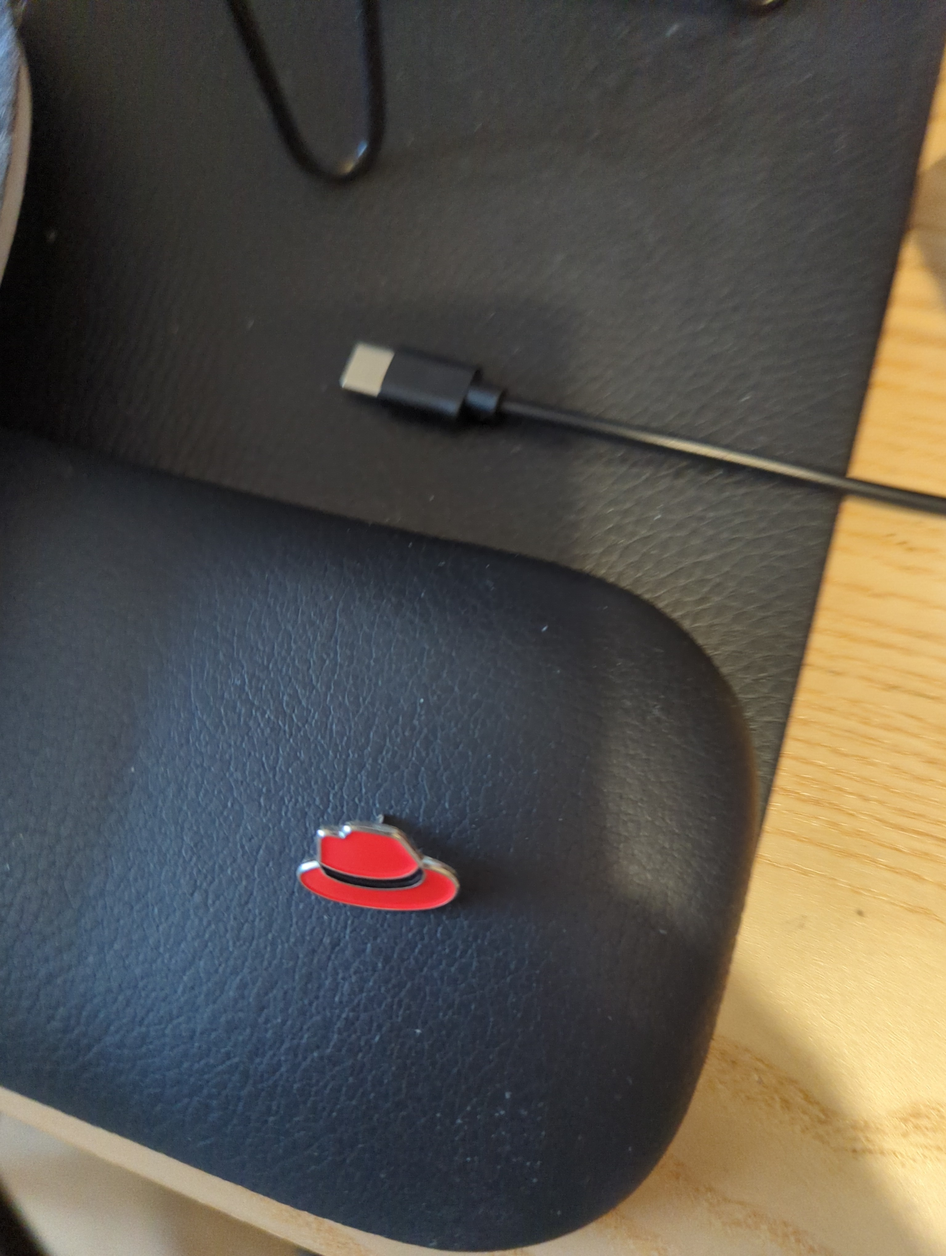Red-Hat: (221, 736, 536, 967)
